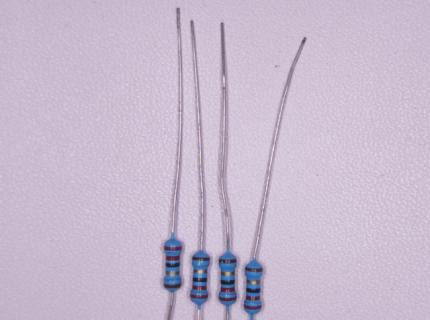Black band: (246, 287, 261, 294), (220, 279, 236, 285), (165, 262, 180, 268), (192, 277, 208, 282)
Brown band: (163, 282, 182, 288), (192, 255, 210, 261), (219, 258, 237, 264), (245, 266, 263, 272)
Gold band: (246, 278, 261, 285), (193, 269, 208, 274), (220, 271, 236, 275), (165, 271, 181, 275)
Red band: (163, 245, 183, 251), (190, 293, 209, 299), (219, 296, 237, 302), (244, 304, 262, 310), (245, 295, 261, 301), (192, 284, 207, 290), (166, 255, 180, 261), (220, 287, 235, 292)
